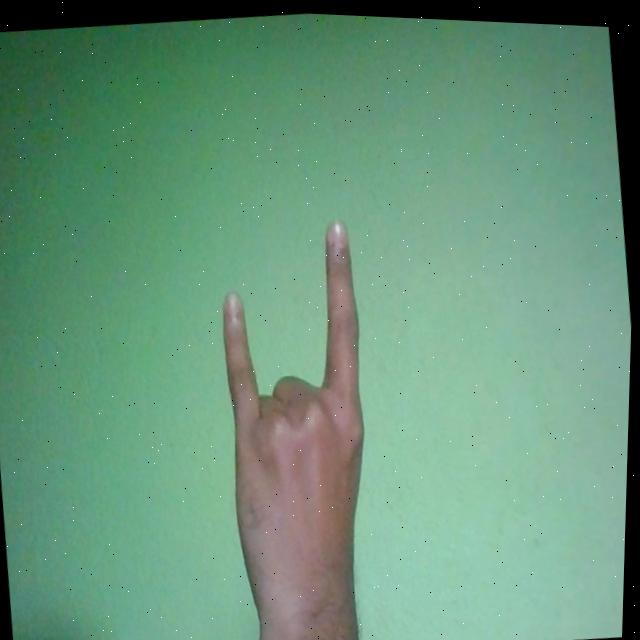Rock On: (206, 207, 398, 640)
